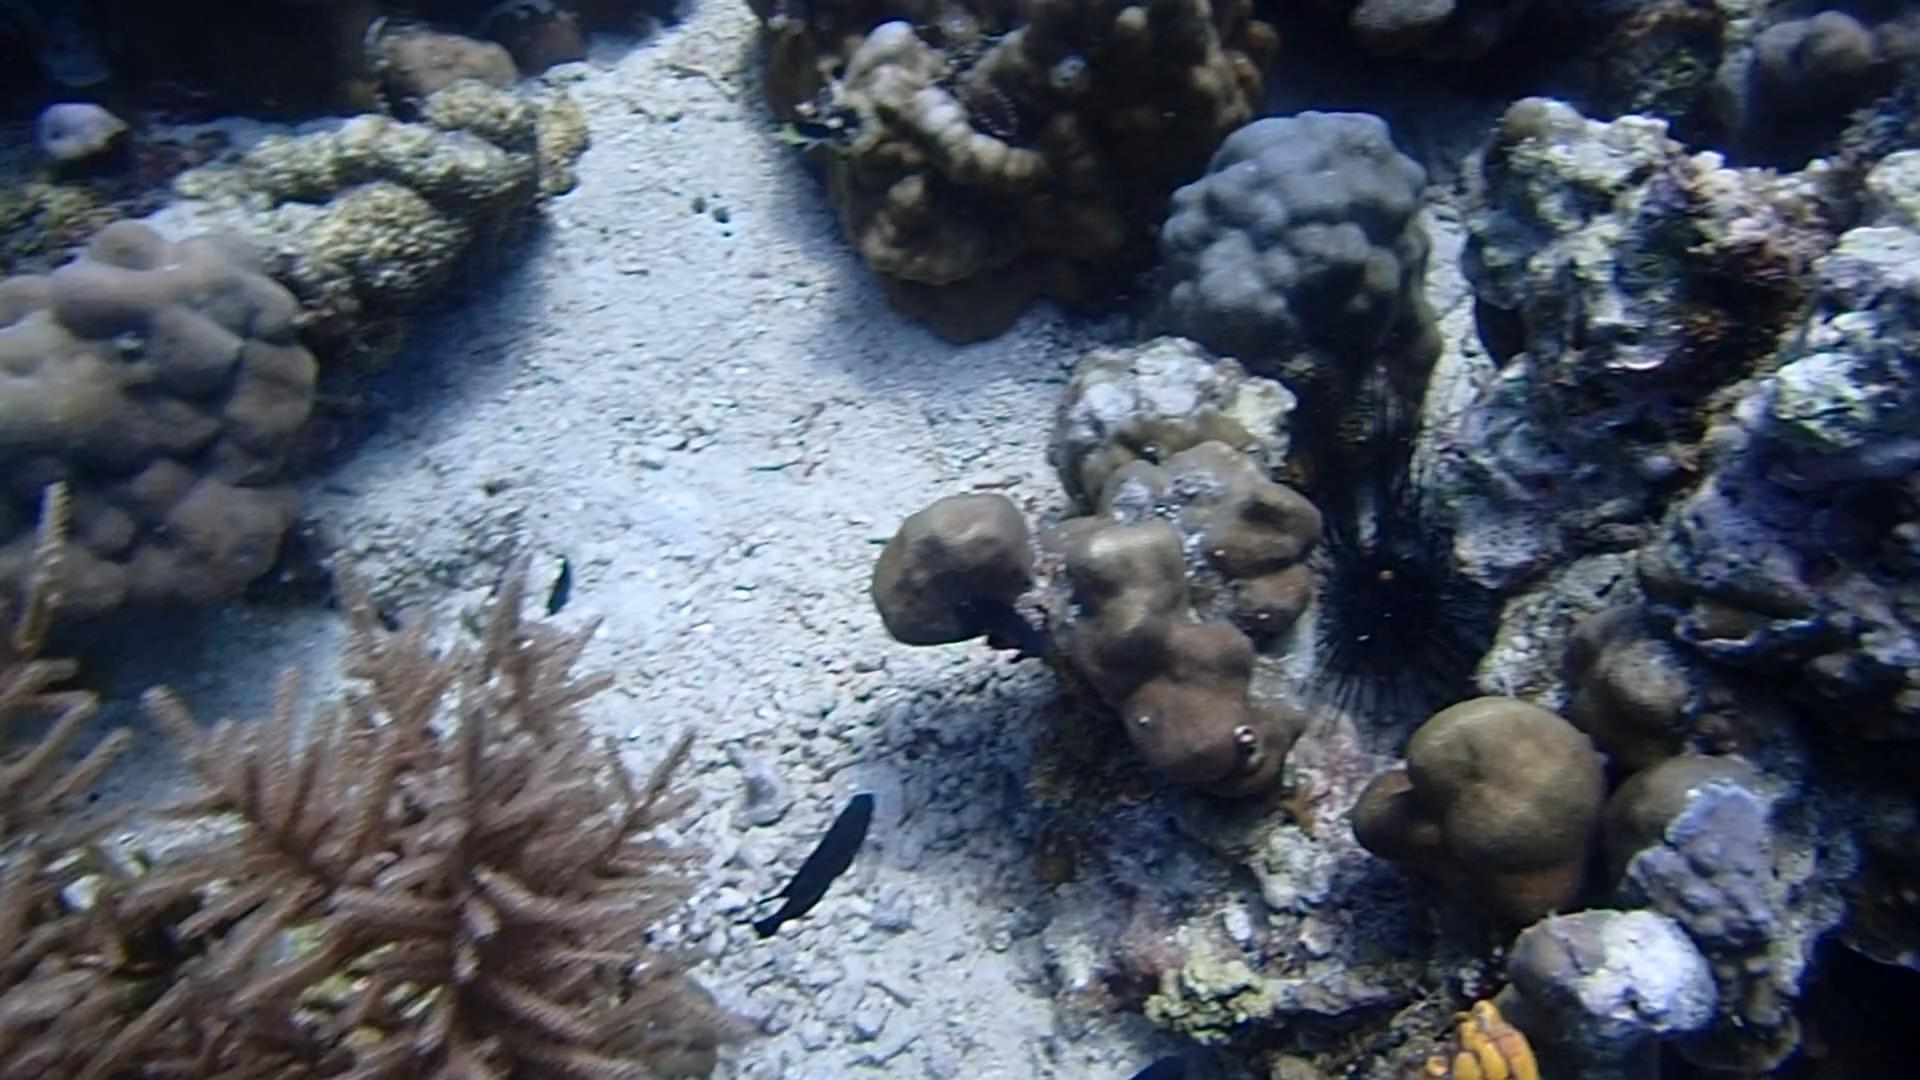Dark Fish: (754, 786, 880, 943), (940, 585, 1058, 674)
Yellow Tail: (762, 108, 840, 154), (538, 553, 580, 620)
